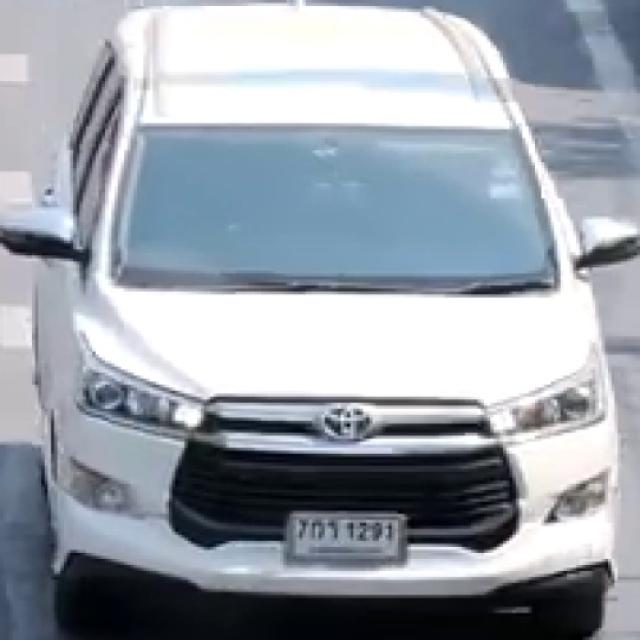plate: (289, 511, 406, 567)
